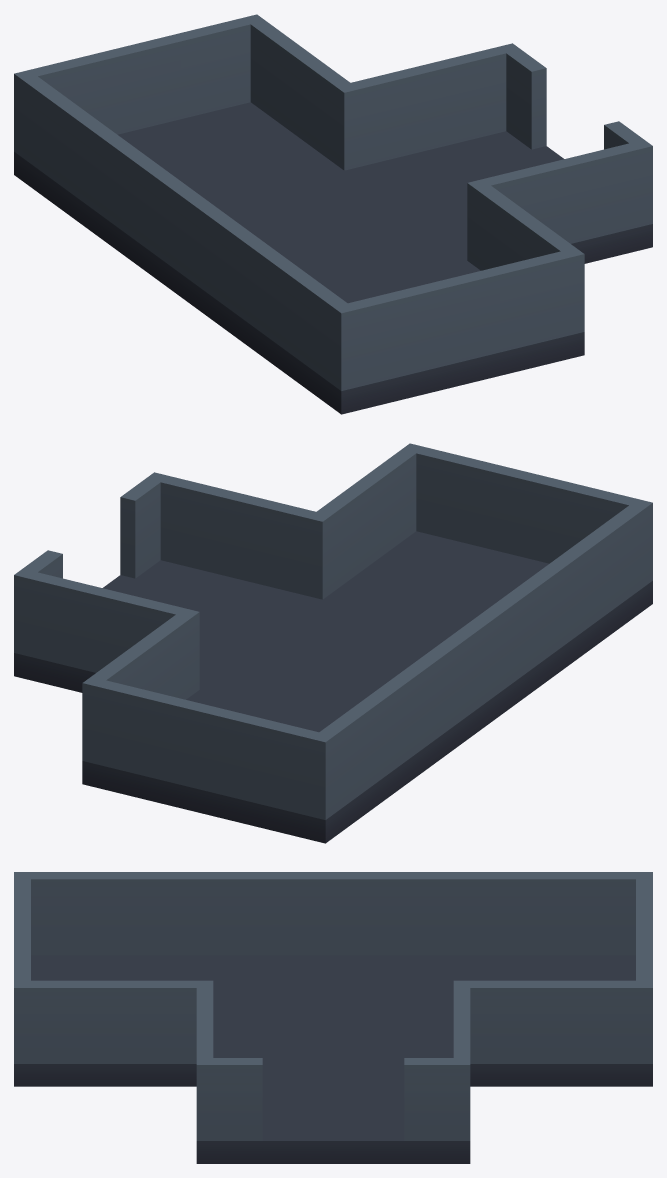
File: Fundaments_3_3.obj
The picture shows the model from 3 angles, top to bottom: view 1: azimuth 30°, elevation 25°; view 2: azimuth 150°, elevation 25°; view 3: azimuth 270°, elevation 25°; orthographic projection. The views are drawn at different scales.
Visible parts, largest first — view 1: Fundaments_3_3; view 2: Fundaments_3_3; view 3: Fundaments_3_3.
Part boxes in pixels (x1,y1,x2,y2): Fundaments_3_3: (14,14,652,414); Fundaments_3_3: (14,443,652,843); Fundaments_3_3: (14,872,652,1163).
Bounding box in the file's own units: 10 × 2.39 × 14.
